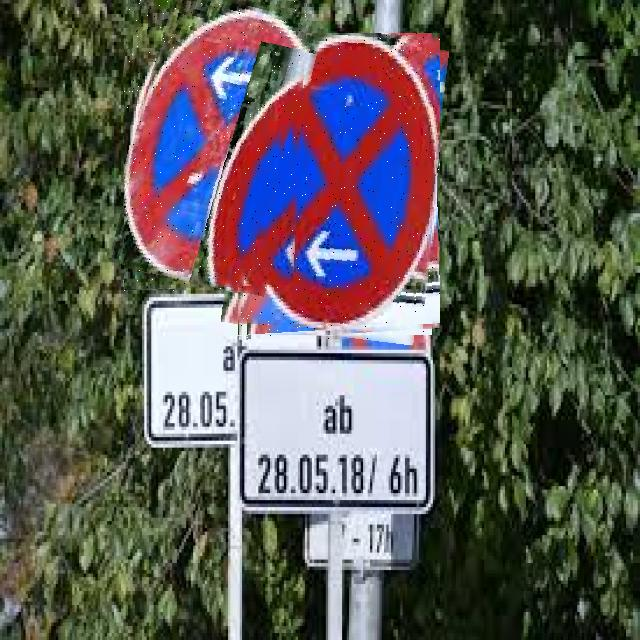no stopping: (230, 33, 440, 340), (124, 0, 308, 291)
